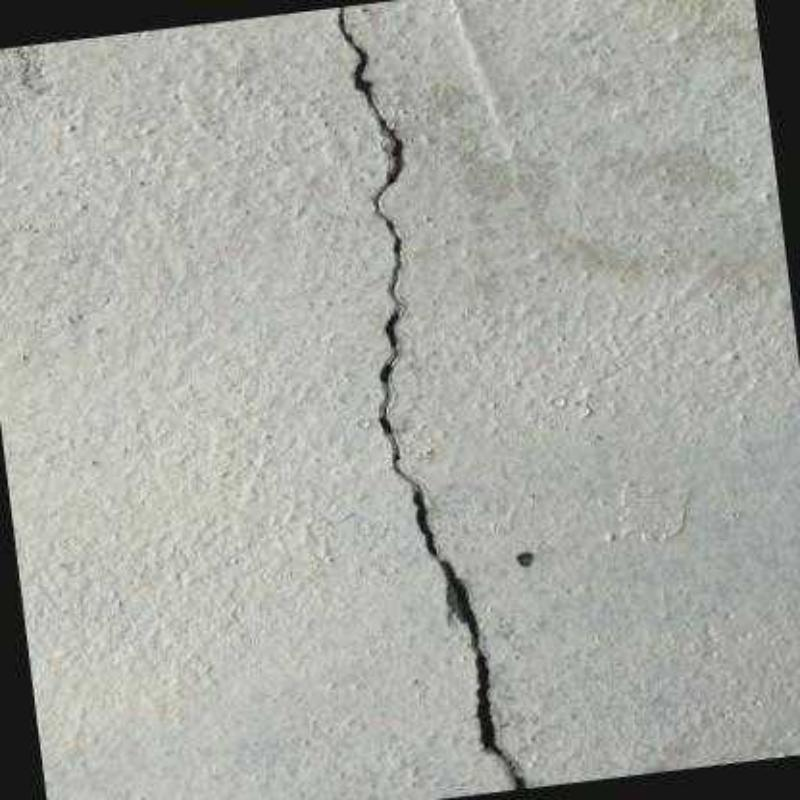pothole: (336, 4, 526, 789)
